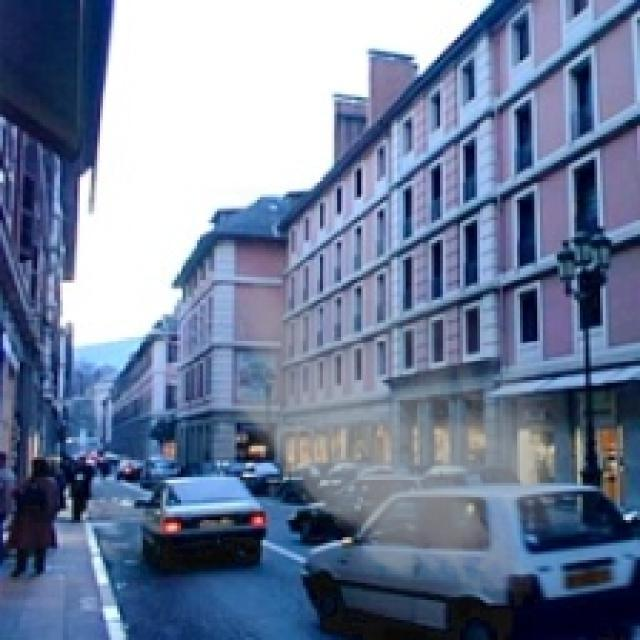Smoke: (185, 188, 600, 608)
